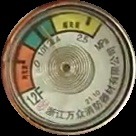green: (20, 20, 58, 49)
needle: (39, 21, 59, 50)
red: (10, 42, 38, 95)
yellow: (53, 10, 106, 40)
